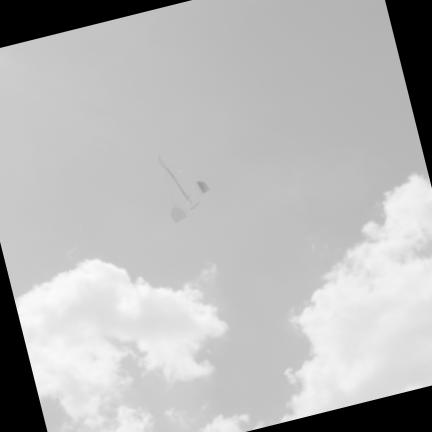Shahed: (157, 153, 210, 223)
